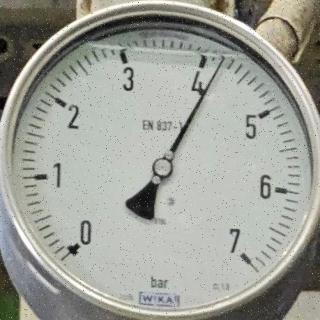gauge: (0, 0, 320, 320), (214, 225, 264, 279), (54, 216, 102, 268), (152, 157, 174, 179), (215, 53, 229, 68)
